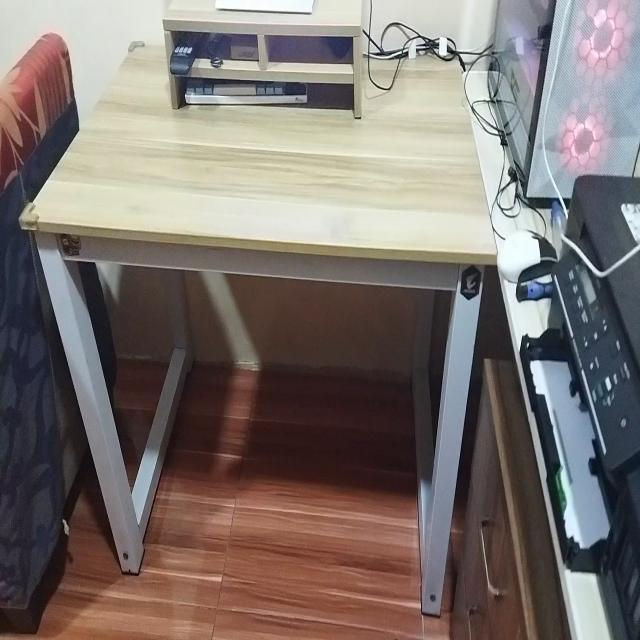table: (33, 33, 484, 599)
